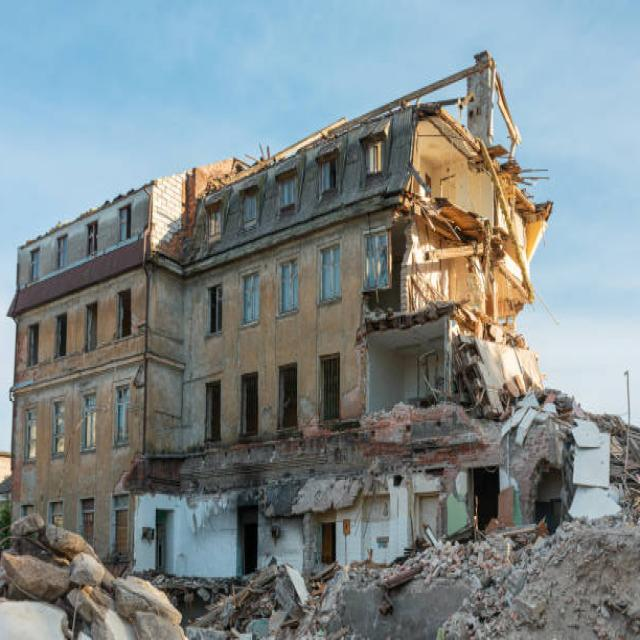Destroyed_building: (149, 1, 638, 640)
